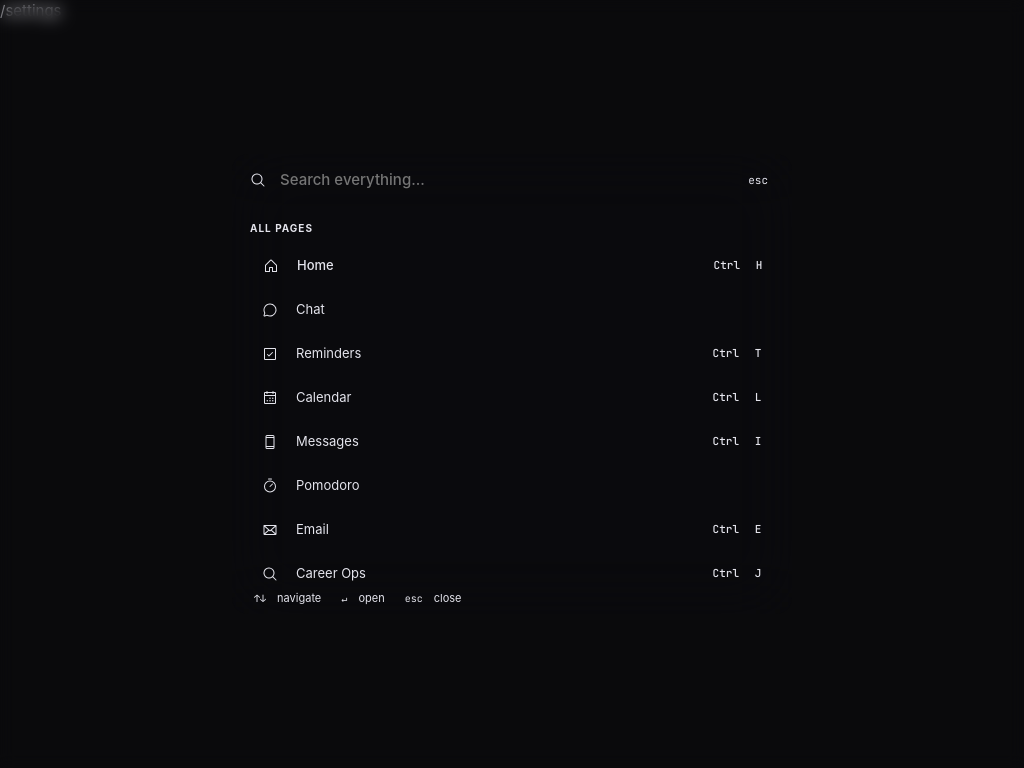
Test case: CommandPalette › filters stored project folders by repository and branch metadata
The image size is (1024, 768).
Type "feature/chat" into the dropdown named "Command palette search" at (504, 180), box 278,168 -> 730,192
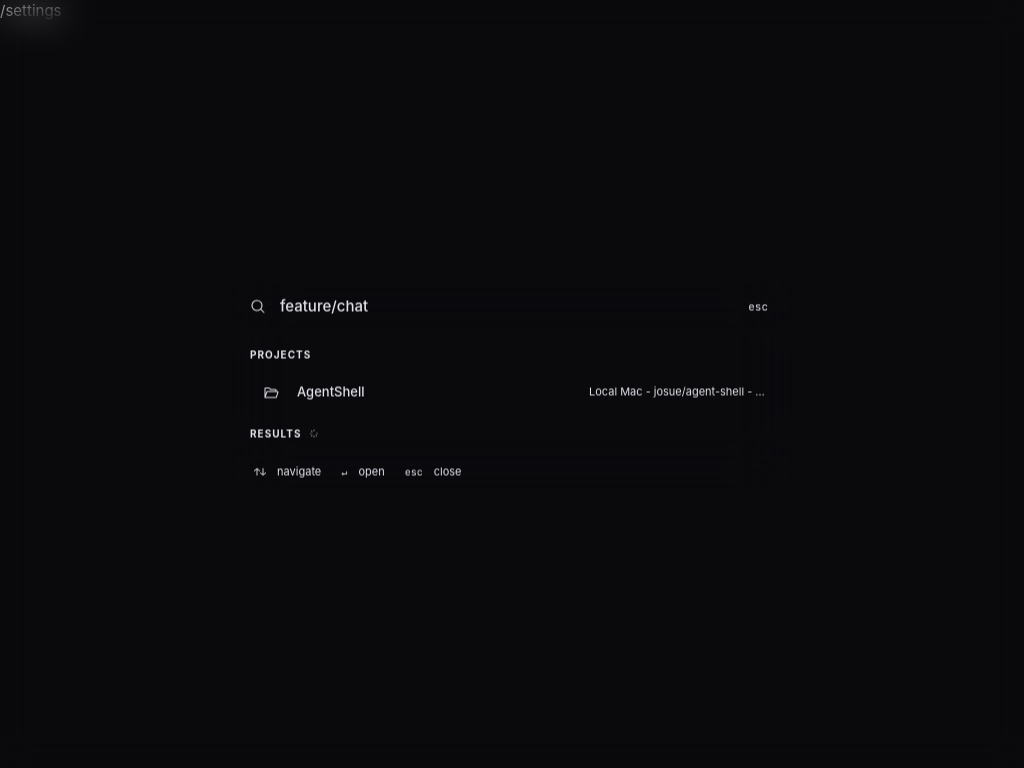
Expected: the option "AgentShell" shows "josue/agent-shell", 263,383 -> 792,400
Expected: the option "AgentShell" shows "feature/chat", 263,383 -> 792,400
